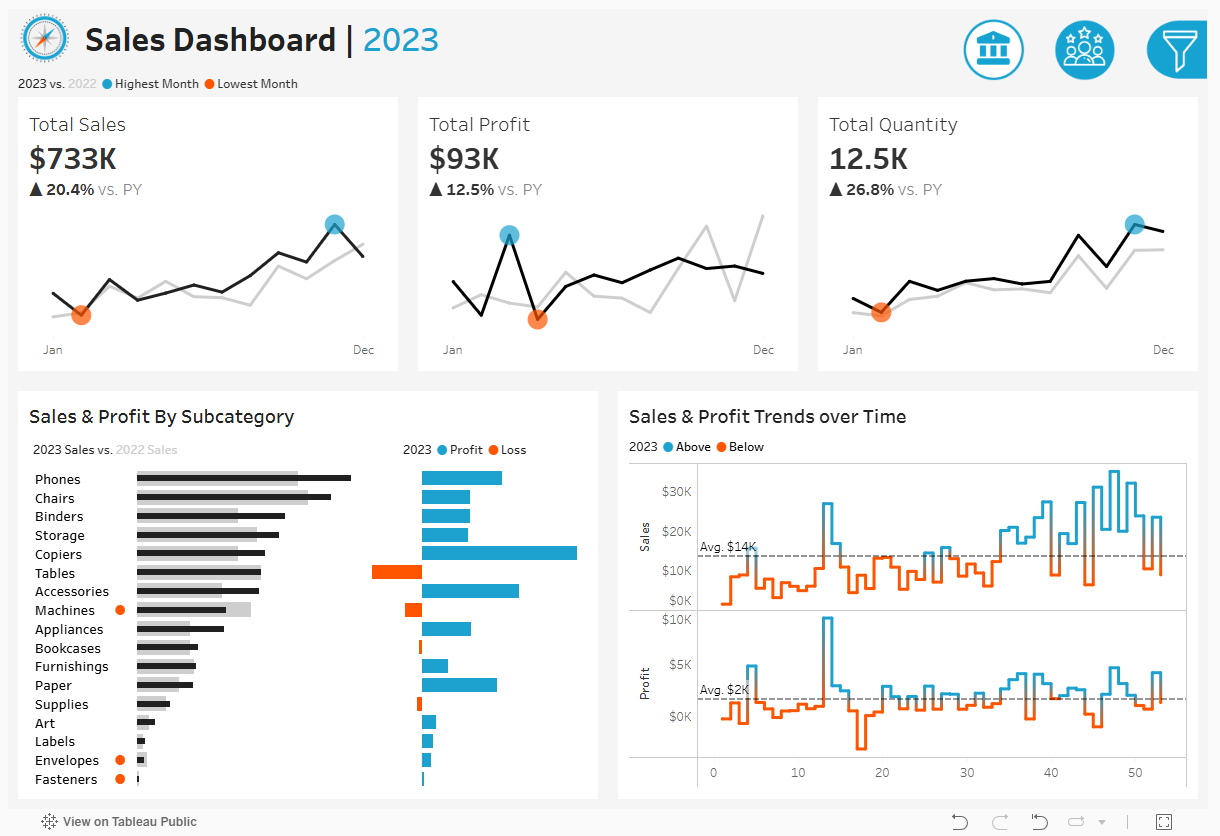

Layout of this report page (visuals, bound fields, positions):
{"tool":"tableau","page":{"name":"Sales Dashboard","canvas":[1200,800],"ordinal":1},"visuals":[{"type":"image","param":"Image/Icon - Logo.png","box":[0,0,73,59]},{"type":"text","box":[73,0,820,59]},{"type":"dashboard-object","box":[940,6,91,70]},{"type":"dashboard-object","box":[1031,6,91,70]},{"type":"blank","box":[952,10,237,86]},{"type":"worksheet","title":"Legend KPI","mark":"Automatic","box":[0,59,1200,29]},{"type":"worksheet","title":"KPI Sales","mark":"Automatic","rows":["Calculation_721701895347843083"],"cols":["Order Date"],"box":[0,88,400,284]},{"type":"worksheet","title":"KPI Profit","mark":"Automatic","rows":["Min/Max Sales (copy)_237846410425847814"],"cols":["Order Date"],"box":[400,88,400,284]},{"type":"worksheet","title":"KPI Quantity","mark":"Automatic","rows":["Min/Max Sales (copy) (copy)_237846410425856007"],"cols":["Order Date"],"box":[800,88,400,284]},{"type":"text","box":[952,96,237,37]},{"type":"parameter","param":"[Parameters].[Parameter 1]","box":[952,133,237,55]},{"type":"text","box":[952,188,237,32]},{"type":"filter","title":"KPI Sales","param":"[federated.1kpxa041aiai2y1cl4pui1t4eju9].[none:Category:nk]","box":[952,220,237,57]},{"type":"filter","title":"KPI Sales","param":"[federated.1kpxa041aiai2y1cl4pui1t4eju9].[none:Sub-Category:nk]","box":[952,277,237,57]},{"type":"blank","box":[952,334,237,60]},{"type":"text","box":[17,389,566,40]},{"type":"text","box":[617,389,566,40]},{"type":"text","box":[952,394,237,32]},{"type":"filter","title":"KPI Sales","param":"[federated.1kpxa041aiai2y1cl4pui1t4eju9].[none:Region:nk]","box":[952,426,237,57]},{"type":"worksheet","title":"Legend Subcategory","mark":"Automatic","box":[17,429,374,32]},{"type":"text","box":[391,429,192,32]},{"type":"text","box":[617,429,566,29]},{"type":"worksheet","title":"Weekly Trends","mark":"Automatic","rows":["Calculation_721701895334993921","CY Sales (copy)_237846410424180736"],"cols":["Order Date"],"box":[617,458,566,325]},{"type":"worksheet","title":"Subcategory Comparison","mark":"Bar","rows":["Sub-Category","Calculation_2435040078806671369"],"cols":["CY Sales (copy)_721701895335804930","Calculation_721701895334993921","CY Sales (copy)_237846410424180736"],"box":[17,461,566,321.9]},{"type":"filter","title":"KPI Sales","param":"[federated.1kpxa041aiai2y1cl4pui1t4eju9].[none:State:nk]","box":[952,483,237,57]},{"type":"filter","title":"KPI Sales","param":"[federated.1kpxa041aiai2y1cl4pui1t4eju9].[none:City:nk]","box":[952,540,237,57]}]}

Visuals, with their boxes in screenshot pixels (x1, y1, x2, y2), scaled from the page's 1200x800 canvas onto the 1220x836 screenshot:
image: 0/0/74/62
text: 74/0/908/62
dashboard-object: 956/6/1048/79
dashboard-object: 1048/6/1141/79
blank: 968/10/1209/100
"Legend KPI" worksheet: 0/62/1219/92
"KPI Sales" worksheet: 0/92/407/389
"KPI Profit" worksheet: 407/92/813/389
"KPI Quantity" worksheet: 813/92/1219/389
text: 968/100/1209/139
parameter: 968/139/1209/196
text: 968/196/1209/230
"KPI Sales" filter: 968/230/1209/289
"KPI Sales" filter: 968/289/1209/349
blank: 968/349/1209/412
text: 17/407/593/448
text: 627/407/1203/448
text: 968/412/1209/445
"KPI Sales" filter: 968/445/1209/505
"Legend Subcategory" worksheet: 17/448/398/482
text: 398/448/593/482
text: 627/448/1203/479
"Weekly Trends" worksheet: 627/479/1203/818
"Subcategory Comparison" worksheet (Bar marks): 17/482/593/818
"KPI Sales" filter: 968/505/1209/564
"KPI Sales" filter: 968/564/1209/624
